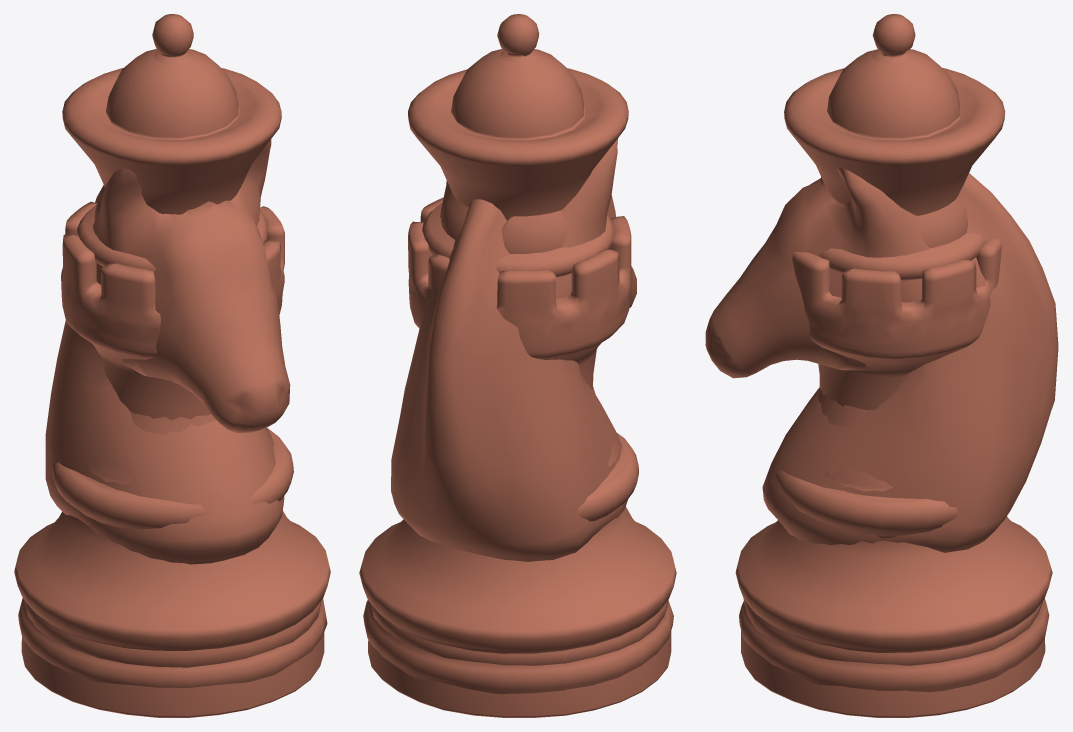
Rendered from chess-pieces.glb.
The picture shows the model from 3 angles, left to right: view 1: azimuth 30°, elevation 25°; view 2: azimuth 150°, elevation 25°; view 3: azimuth 270°, elevation 25°; orthographic projection.
Parts seen in each view (by area): view 1: queen, knight, rook; view 2: queen, knight, rook, bishop; view 3: knight, queen, rook, bishop.
Boxes of the visible parts, box(x1,y1,x2,y2) form: queen: box(14, 14, 330, 687); knight: box(21, 139, 324, 717); rook: box(61, 201, 284, 420); queen: box(359, 14, 676, 694); knight: box(368, 138, 671, 717); rook: box(408, 197, 632, 389); bishop: box(441, 49, 566, 253); knight: box(705, 167, 1058, 717); queen: box(735, 14, 1052, 691); rook: box(792, 239, 1001, 410); bishop: box(872, 50, 968, 247).
Bounding box in the file's own units: 0.8275 × 1.85 × 0.9254.
